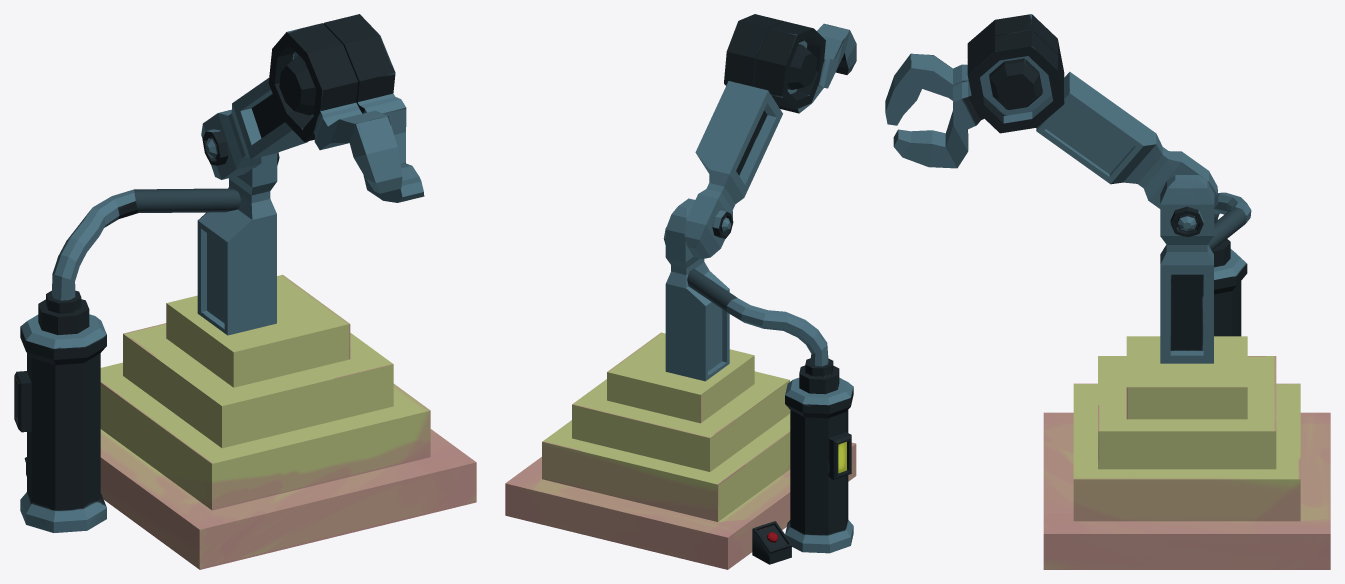
Rendered from bras.fbx.
The picture shows the model from 3 angles, left to right: view 1: azimuth 30°, elevation 25°; view 2: azimuth 150°, elevation 25°; view 3: azimuth 270°, elevation 25°; orthographic projection. The views are drawn at different scales.
Parts seen in each view (by area): view 1: Cube.001, battery_ferme.008, Cube.005, Cube.002, Cube.003, Cube.004; view 2: Cube.001, battery_ferme.008, Cube.003, Cube.002, Cube.005, Cube.004; view 3: Cube.001, Cube.004, Cube.002, Cube.003, Cube.005, battery_ferme.008.
Part boxes in pixels (x1,y1,x2,y2): Cube.001: (100, 274, 476, 569); battery_ferme.008: (14, 188, 240, 532); Cube.005: (268, 23, 402, 193); Cube.002: (197, 152, 279, 335); Cube.003: (201, 78, 308, 179); Cube.004: (323, 14, 424, 202); Cube.001: (505, 332, 856, 569); battery_ferme.008: (687, 268, 853, 564); Cube.003: (684, 81, 782, 258); Cube.002: (663, 198, 729, 381); Cube.005: (754, 21, 856, 109); Cube.004: (724, 14, 823, 113); Cube.001: (1043, 336, 1330, 569); Cube.004: (893, 30, 1064, 168); Cube.002: (1160, 175, 1214, 363); Cube.003: (1036, 71, 1218, 208); Cube.005: (885, 14, 1064, 125); battery_ferme.008: (1208, 192, 1251, 336).
Size of the model in its own units: 1454 by 1999 by 1715.
